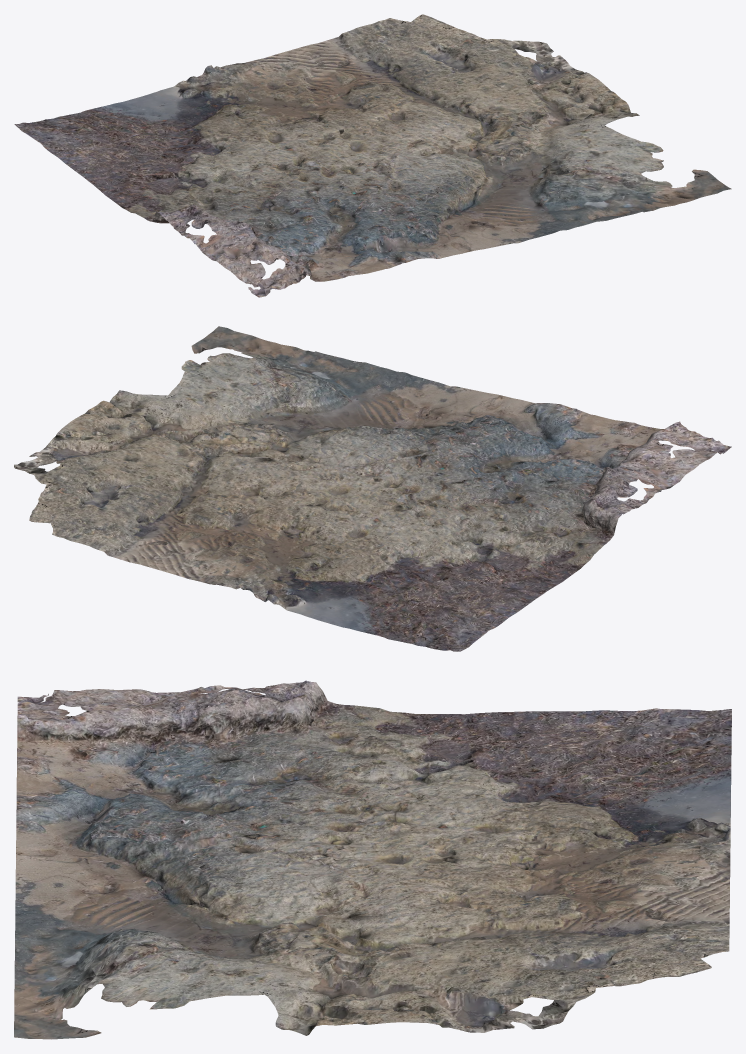
Rendered from ground-field-tile.glb.
3 renders of one model, top to bottom at view 1: azimuth 30°, elevation 25°; view 2: azimuth 150°, elevation 25°; view 3: azimuth 270°, elevation 25°, orthographic. The views are drawn at different scales.
Visible parts, largest first — view 1: Model; view 2: Model; view 3: Model.
Part boxes in pixels (x1,y1,x2,y2): Model: [14, 14, 731, 297]; Model: [14, 326, 731, 651]; Model: [14, 680, 731, 1039].
Size of the model in its own units: 25.57 by 1.52 by 23.25.
Materials: 1 (1 with a texture image).
